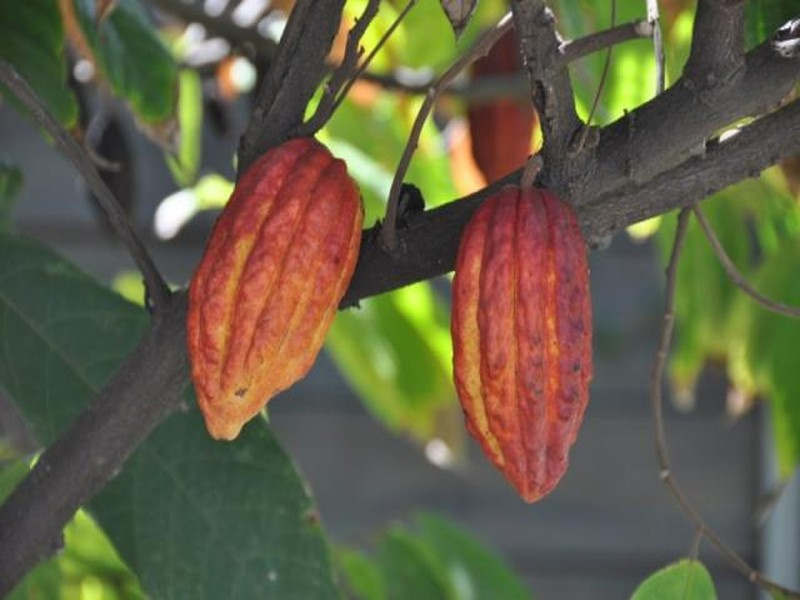Cacaopod: (184, 134, 363, 444), (451, 183, 594, 505)
